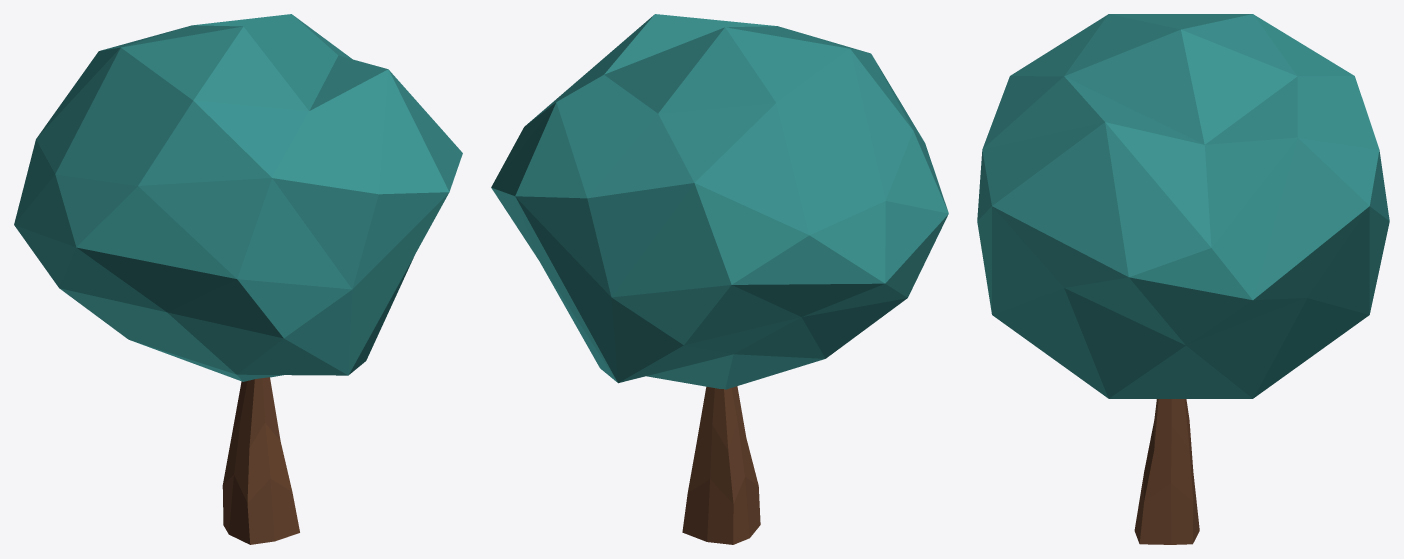
Rendered from Tree_48_Blue.fbx.
3 views of the same model, side by side, from view 1: azimuth 30°, elevation 25°; view 2: azimuth 150°, elevation 25°; view 3: azimuth 270°, elevation 25° (orthographic). The views are drawn at different scales.
Parts seen in each view (by area): view 1: Tree_48_Blue_Part_1, Tree_48_Blue_Part_2; view 2: Tree_48_Blue_Part_1, Tree_48_Blue_Part_2; view 3: Tree_48_Blue_Part_1, Tree_48_Blue_Part_2.
Part boxes in pixels (<box>): Tree_48_Blue_Part_1: <box>14,14,462,381</box>; Tree_48_Blue_Part_2: <box>222,377,299,544</box>; Tree_48_Blue_Part_1: <box>491,14,948,389</box>; Tree_48_Blue_Part_2: <box>682,386,760,544</box>; Tree_48_Blue_Part_1: <box>977,14,1389,398</box>; Tree_48_Blue_Part_2: <box>1134,399,1199,544</box>.
Bounding box in the file's own units: 564 × 696 × 524.
